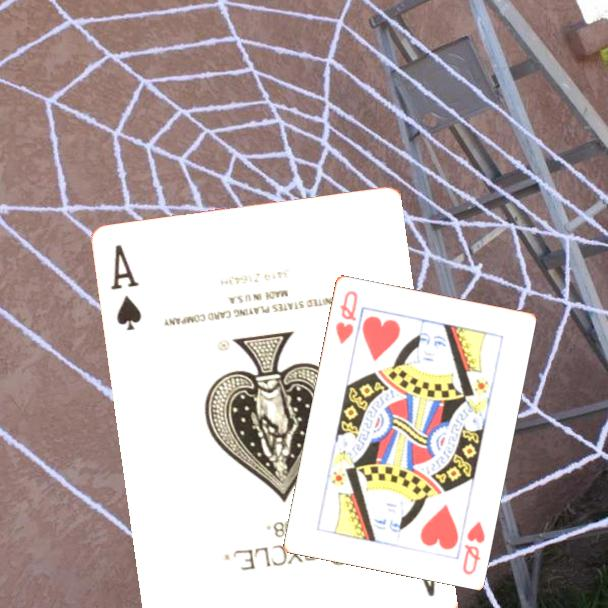h12: (459, 517, 488, 577), (332, 287, 360, 347)
s01: (107, 241, 145, 334)
